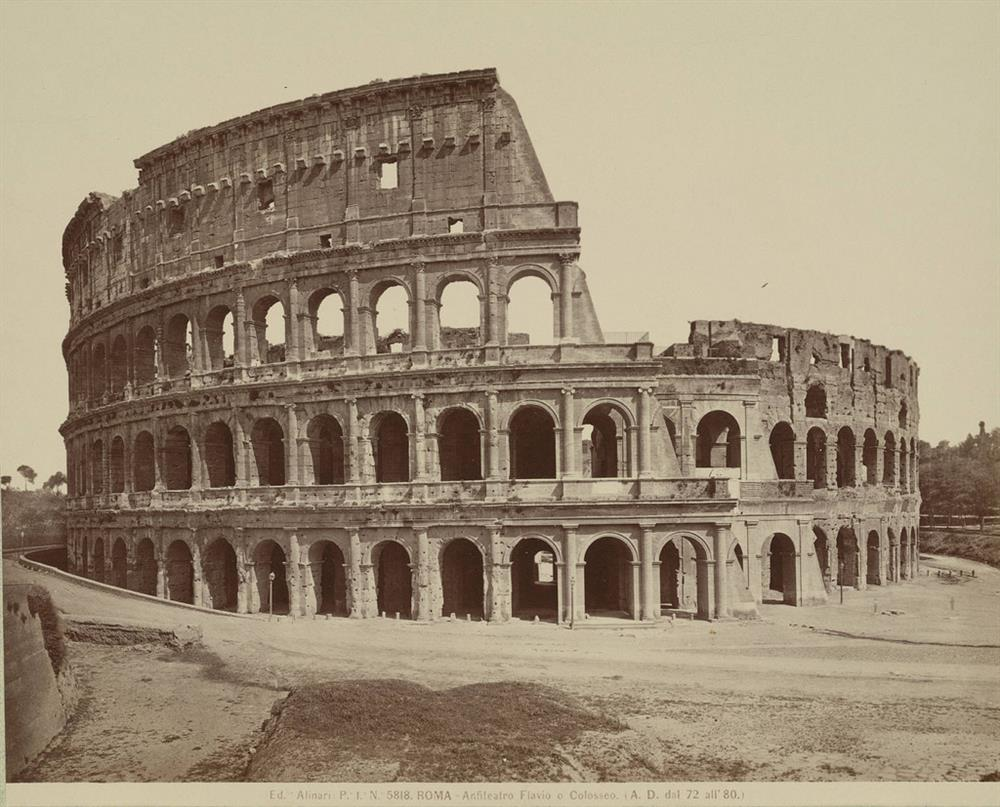Colosseum: (65, 84, 927, 605)
